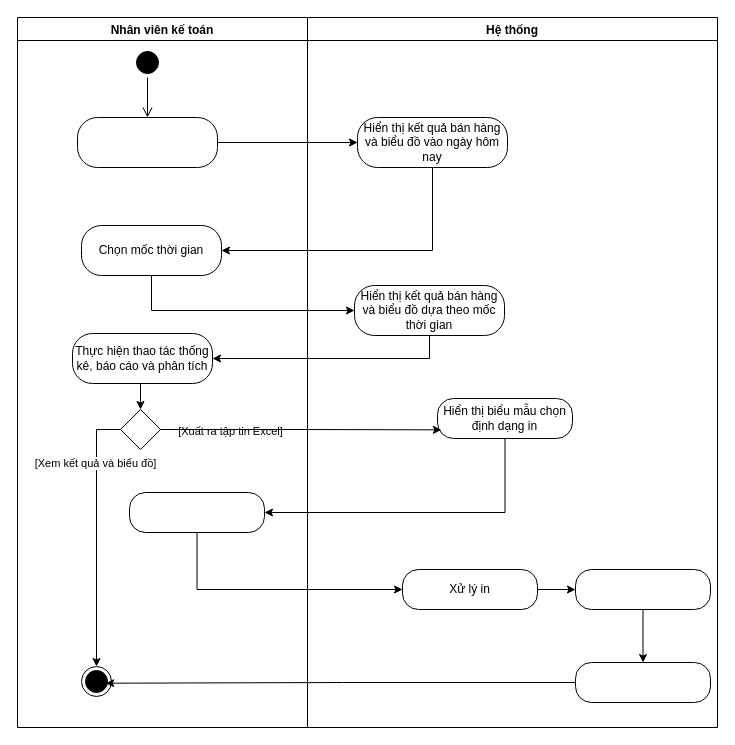
Image size: 735x745. Some labels were removed from this diagram. The centre of each missing label's shape, as x and y in pixels:
Chọn chức năng Báo cáo tài chính: [147,142]
Chọn định dạng in: [196,512]
Thông báo thành công: [642,682]
Xuất ra tập tin: [642,589]
